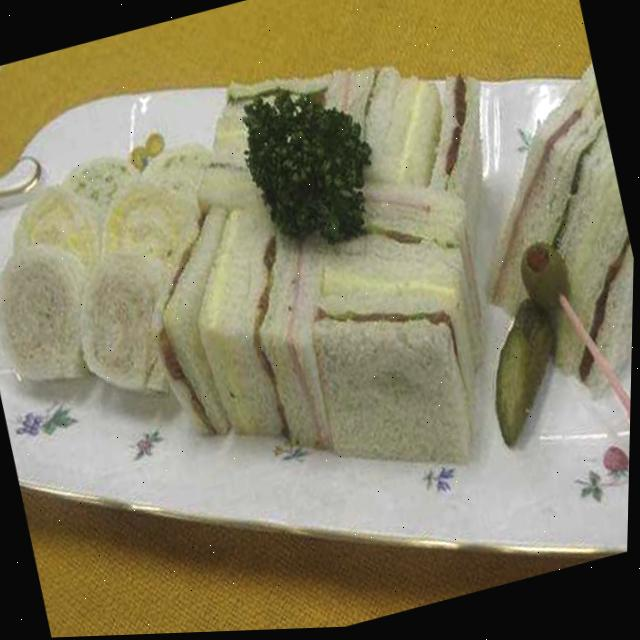三明治: (0, 10, 639, 579)
